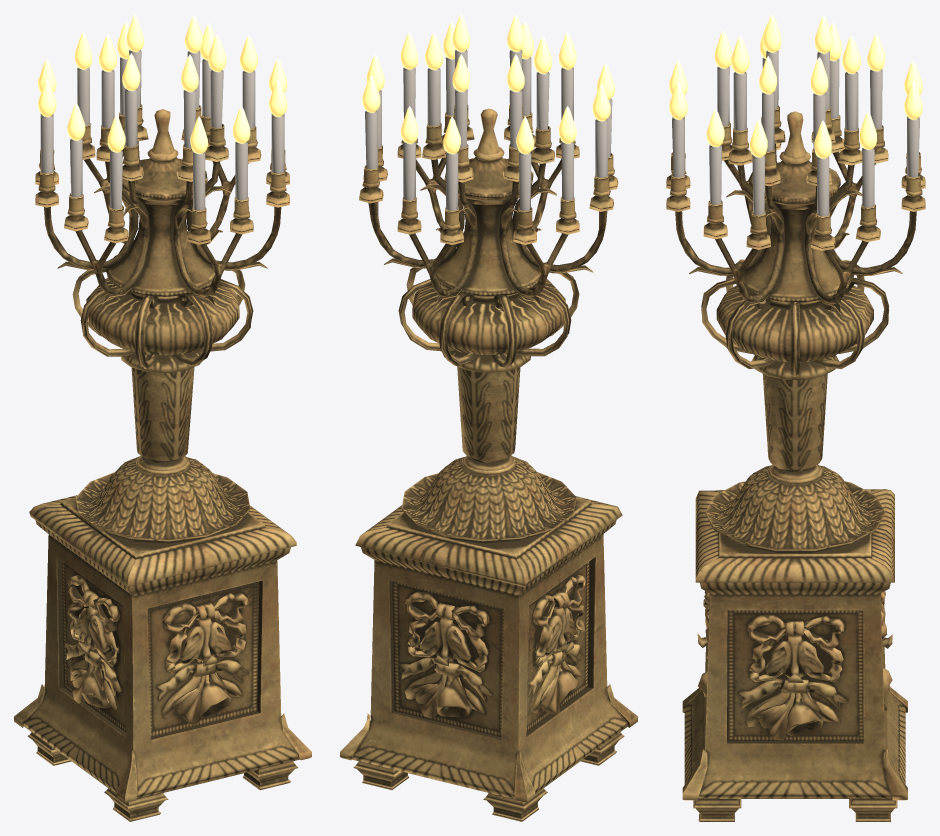
The model's file is titanic_lamp_mobile.glb.
The picture shows the model from 3 angles, left to right: view 1: azimuth 30°, elevation 25°; view 2: azimuth 150°, elevation 25°; view 3: azimuth 270°, elevation 25°; orthographic projection.
Parts seen in each view (by area): view 1: Cube.256_Lamp_0, Cube.256_Emission_0; view 2: Cube.256_Lamp_0, Cube.256_Emission_0; view 3: Cube.256_Lamp_0, Cube.256_Emission_0.
Boxes of the visible parts, x1,y1,x2,y2 form: Cube.256_Lamp_0: (14, 50, 311, 821); Cube.256_Emission_0: (38, 14, 287, 153); Cube.256_Lamp_0: (340, 50, 637, 821); Cube.256_Emission_0: (362, 14, 614, 154); Cube.256_Lamp_0: (666, 50, 925, 821); Cube.256_Emission_0: (669, 14, 922, 158).
Bounding box in the file's own units: 33.98 × 107 × 33.64.
2 materials, 1 textured.
